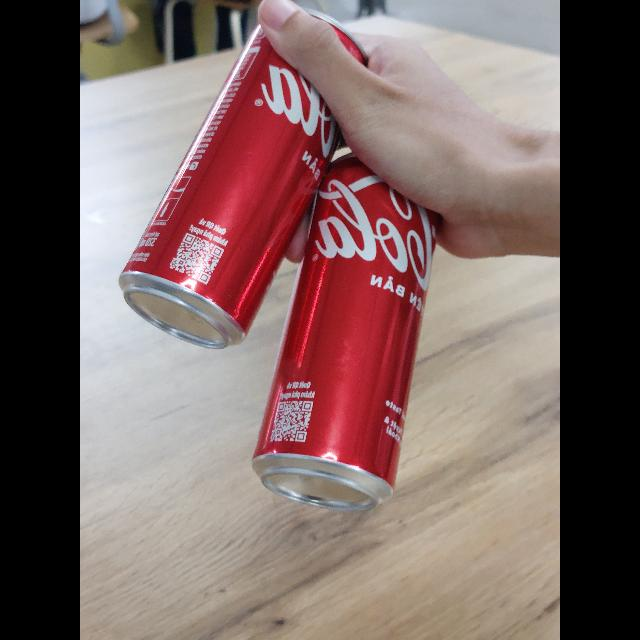coca_cola: (117, 4, 364, 352), (250, 148, 450, 509)
